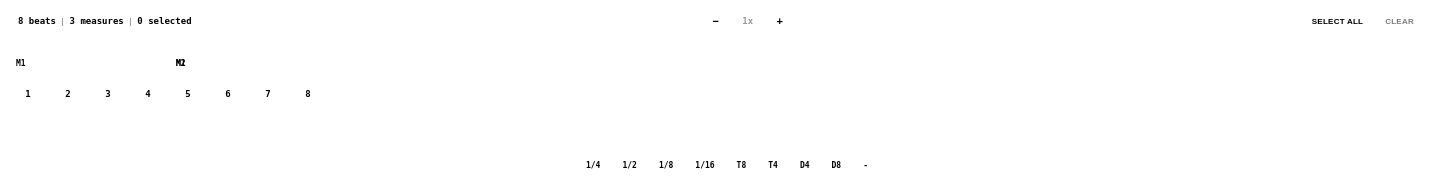
Test: BeatSubdivisionGrid › Selection Interactions - Ctrl/Cmd+Click Toggle › adds beat to selection with ctrl+click on unselected beat
The width and height of the screenshot is (1431, 186).
// Click beat 1
Click the button "1": (28, 94) left=25, top=89, right=31, bottom=99
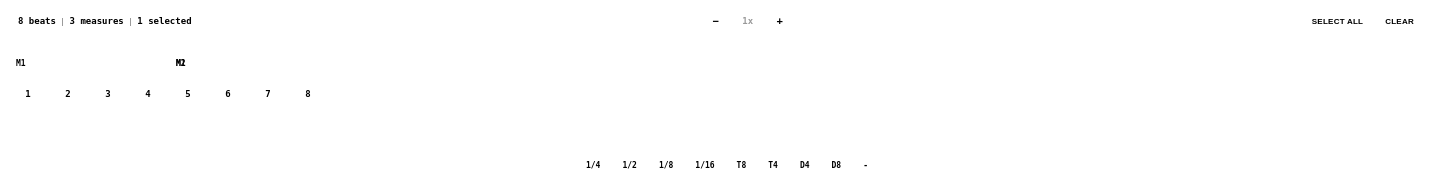
Now the text "1 selected" is shown, box left=137, top=16, right=192, bottom=26
// Ctrl+click beat 3 to add it
Click the button "3": (108, 94) left=105, top=89, right=111, bottom=99
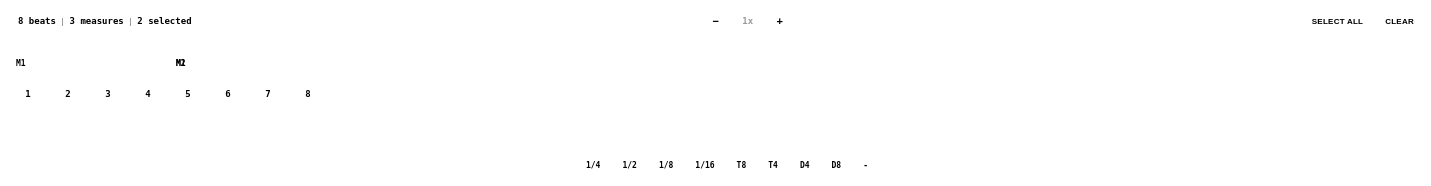
Now the text "2 selected" is shown, box left=137, top=16, right=192, bottom=26
